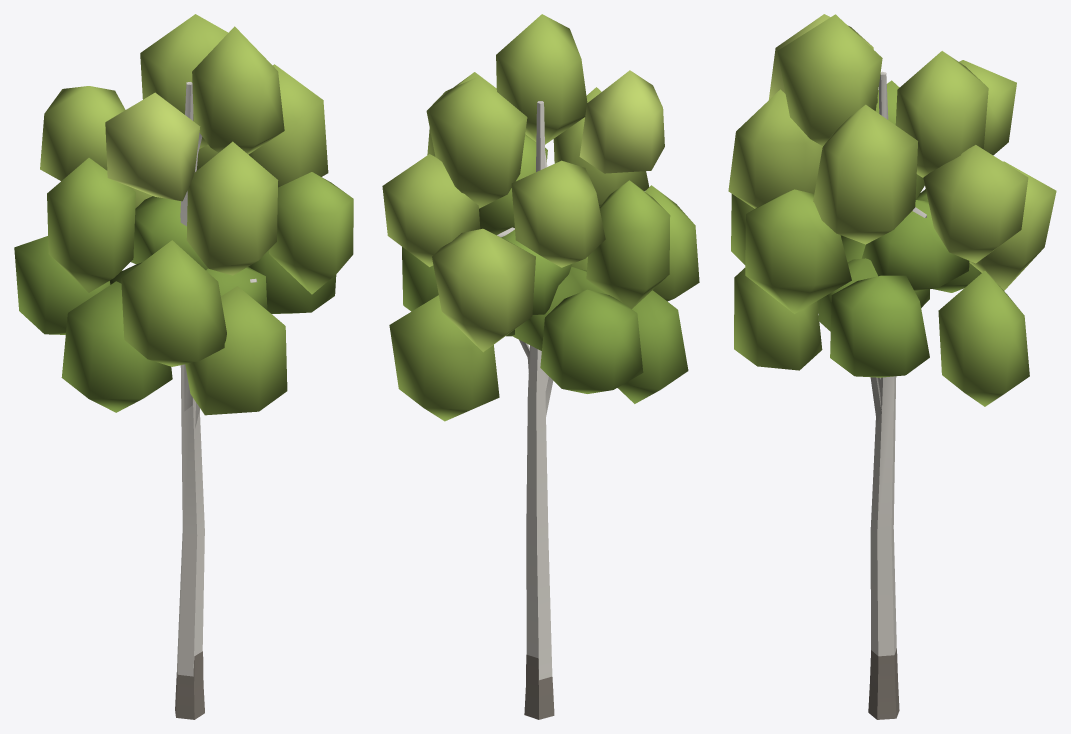
Rendered from birch.far.glb.
The picture shows the model from 3 angles, left to right: view 1: azimuth 30°, elevation 25°; view 2: azimuth 150°, elevation 25°; view 3: azimuth 270°, elevation 25°; orthographic projection. The views are drawn at different scales.
Visible parts, largest first — view 1: birch; view 2: birch; view 3: birch.
Part boxes in pixels (bbox=[...]): birch: bbox=[14, 14, 353, 719]; birch: bbox=[382, 14, 699, 719]; birch: bbox=[728, 14, 1056, 719].
Size of the model in its own units: 3.29 by 8.43 by 3.53.
